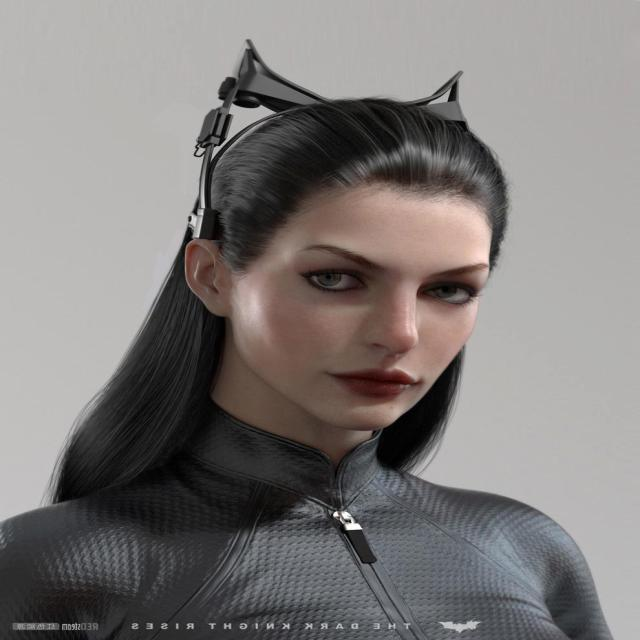no-earmuff: (159, 223, 250, 335)
